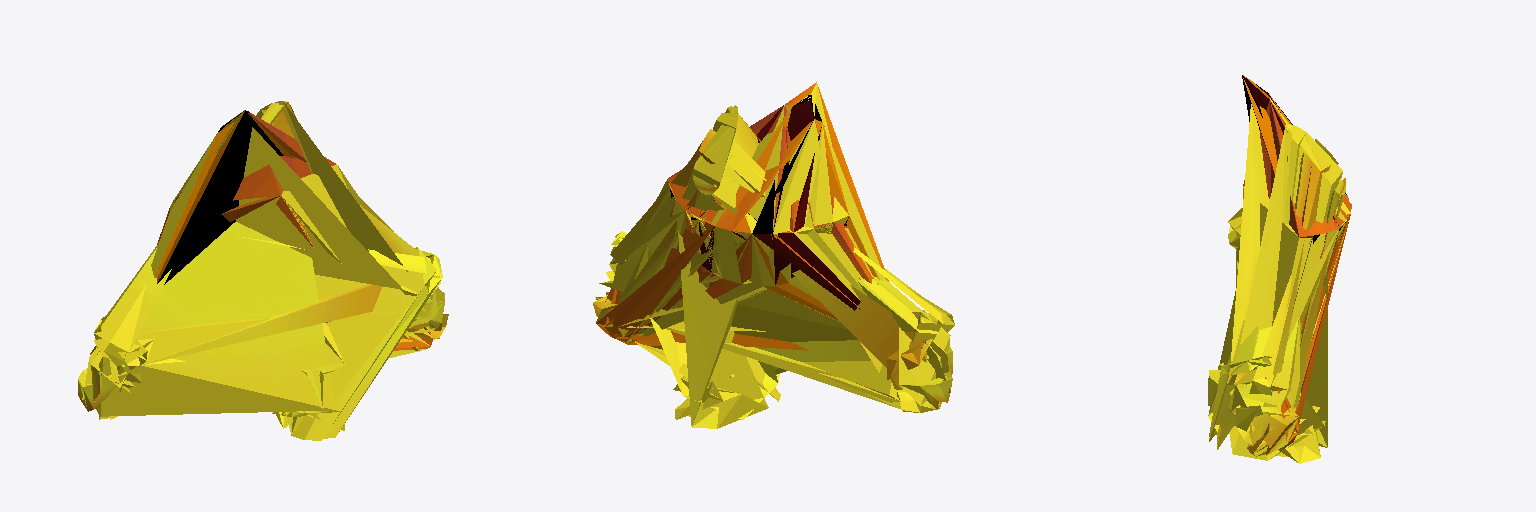
3 renders of one model, left to right at view 1: azimuth 30°, elevation 25°; view 2: azimuth 150°, elevation 25°; view 3: azimuth 270°, elevation 25°, orthographic.
Visible parts, largest first — view 1: obj69, obj132, obj56, obj53, obj44, obj54; view 2: obj69, obj56, obj73, obj54, obj45, obj52, obj47, obj67, obj44, obj55, obj53, obj132 (+1 smaller); view 3: obj69, obj47, obj56, obj52, obj53, obj55.
Boxes of the visible parts, x1=… form: obj69: x1=78, y1=101, x2=448, y2=440; obj132: x1=157, y1=110, x2=283, y2=284; obj56: x1=155, y1=113, x2=430, y2=347; obj53: x1=172, y1=165, x2=432, y2=350; obj44: x1=151, y1=110, x2=244, y2=277; obj54: x1=157, y1=113, x2=243, y2=282; obj69: x1=593, y1=105, x2=954, y2=428; obj56: x1=596, y1=105, x2=848, y2=350; obj73: x1=688, y1=100, x2=860, y2=310; obj54: x1=765, y1=82, x2=888, y2=319; obj45: x1=619, y1=85, x2=866, y2=344; obj52: x1=671, y1=121, x2=876, y2=309; obj47: x1=619, y1=97, x2=830, y2=340; obj67: x1=686, y1=94, x2=872, y2=321; obj44: x1=691, y1=83, x2=886, y2=281; obj55: x1=668, y1=106, x2=870, y2=284; obj53: x1=601, y1=119, x2=847, y2=345; obj132: x1=670, y1=120, x2=859, y2=308; obj69: x1=1208, y1=98, x2=1350, y2=463; obj47: x1=1243, y1=104, x2=1348, y2=456; obj56: x1=1252, y1=103, x2=1350, y2=453; obj52: x1=1243, y1=78, x2=1351, y2=247; obj53: x1=1243, y1=101, x2=1348, y2=452; obj55: x1=1270, y1=101, x2=1350, y2=249.
Bounding box in the file's own units: 8.97 × 8.01 × 3.12.
Materials: 7 (4 with a texture image).